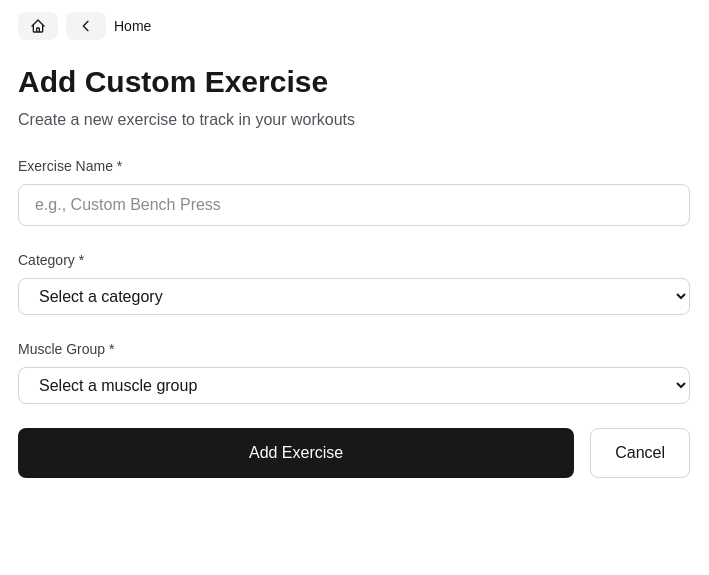
Scenario: AddExerciseForm › should show success message and redirect after successful submission
Type "Custom Exercise" into the field with placeholder "e.g., Custom Bench Press". click: point(354, 205)
box: [18,184,690,226]
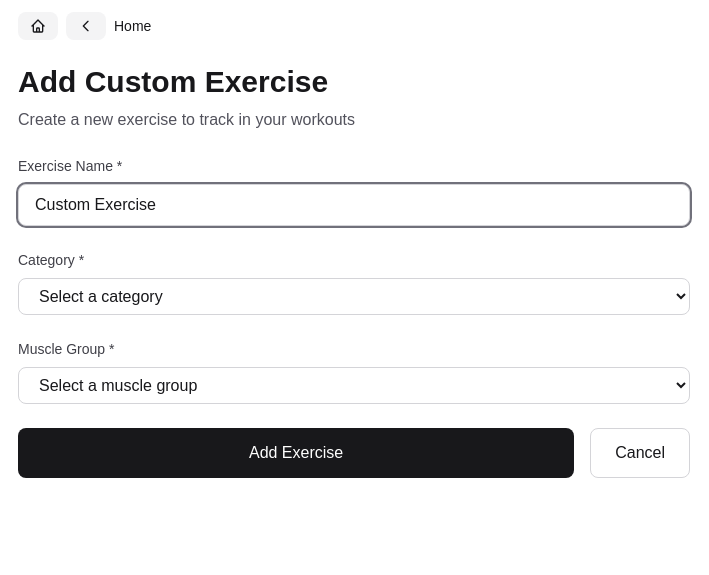
Select "Chest" in the dropdown below "Category *". click: point(354, 296)
box: [18,278,690,315]
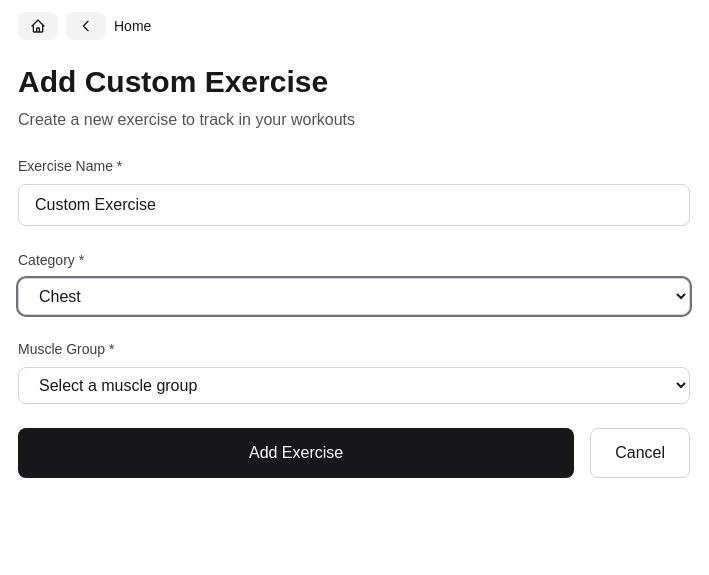
Select "Upper Body" in the dropdown below "Muscle Group *". click: point(354, 386)
box: [18,367,690,404]
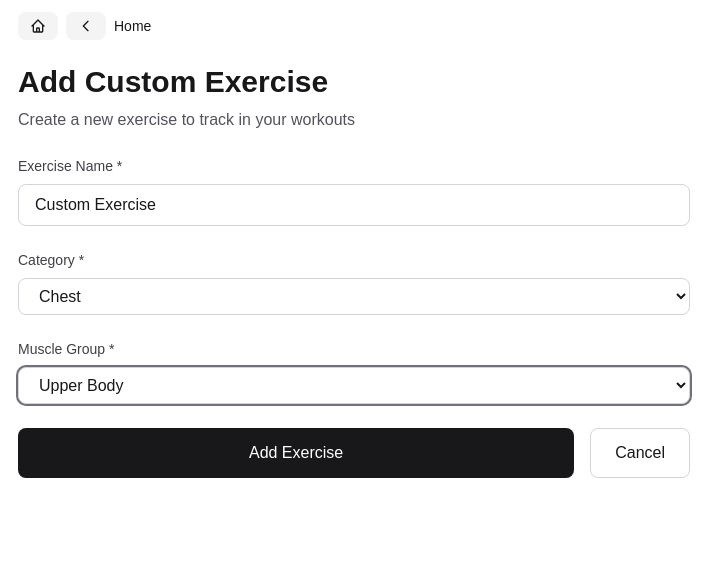
Click the button "Add Exercise". click: point(296, 453)
box: [18,428,574,478]
Wait 1500 ms
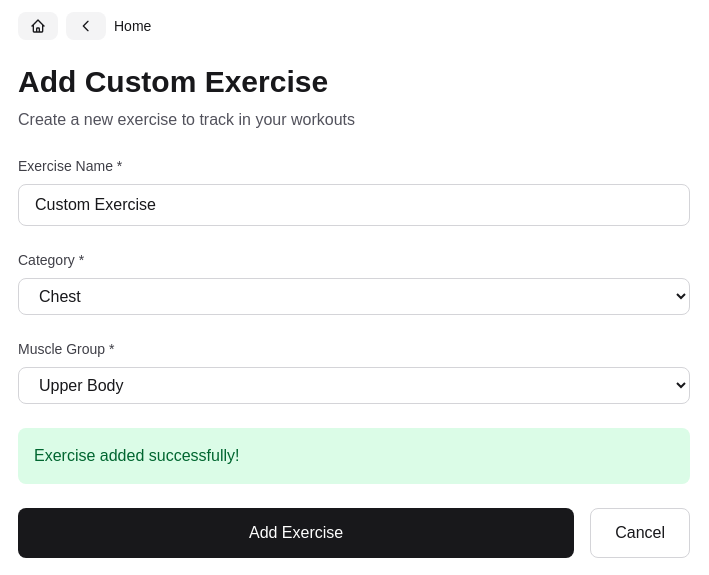
Expected: the text "Exercise added successfully!" is shown, [18,428,690,484]
